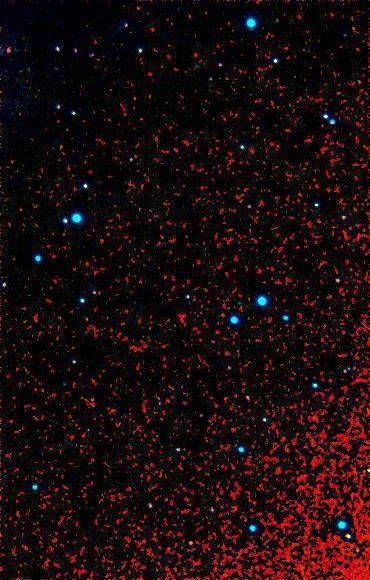star: (0, 37, 23, 67)
